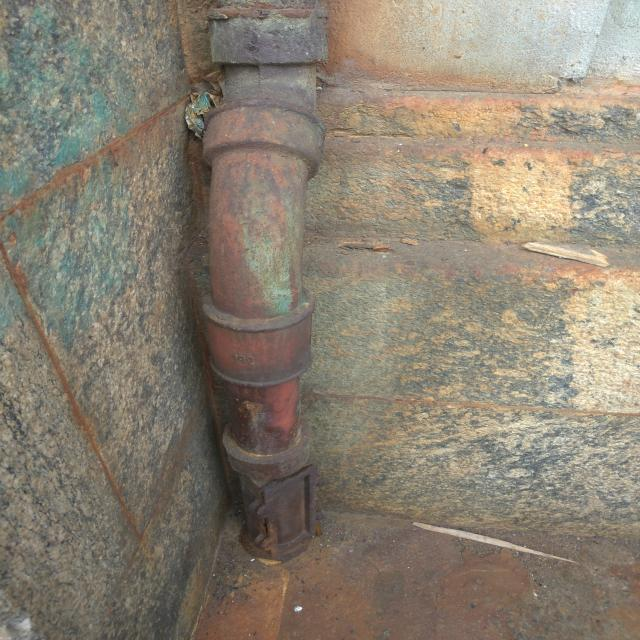gas: (187, 7, 334, 561)
